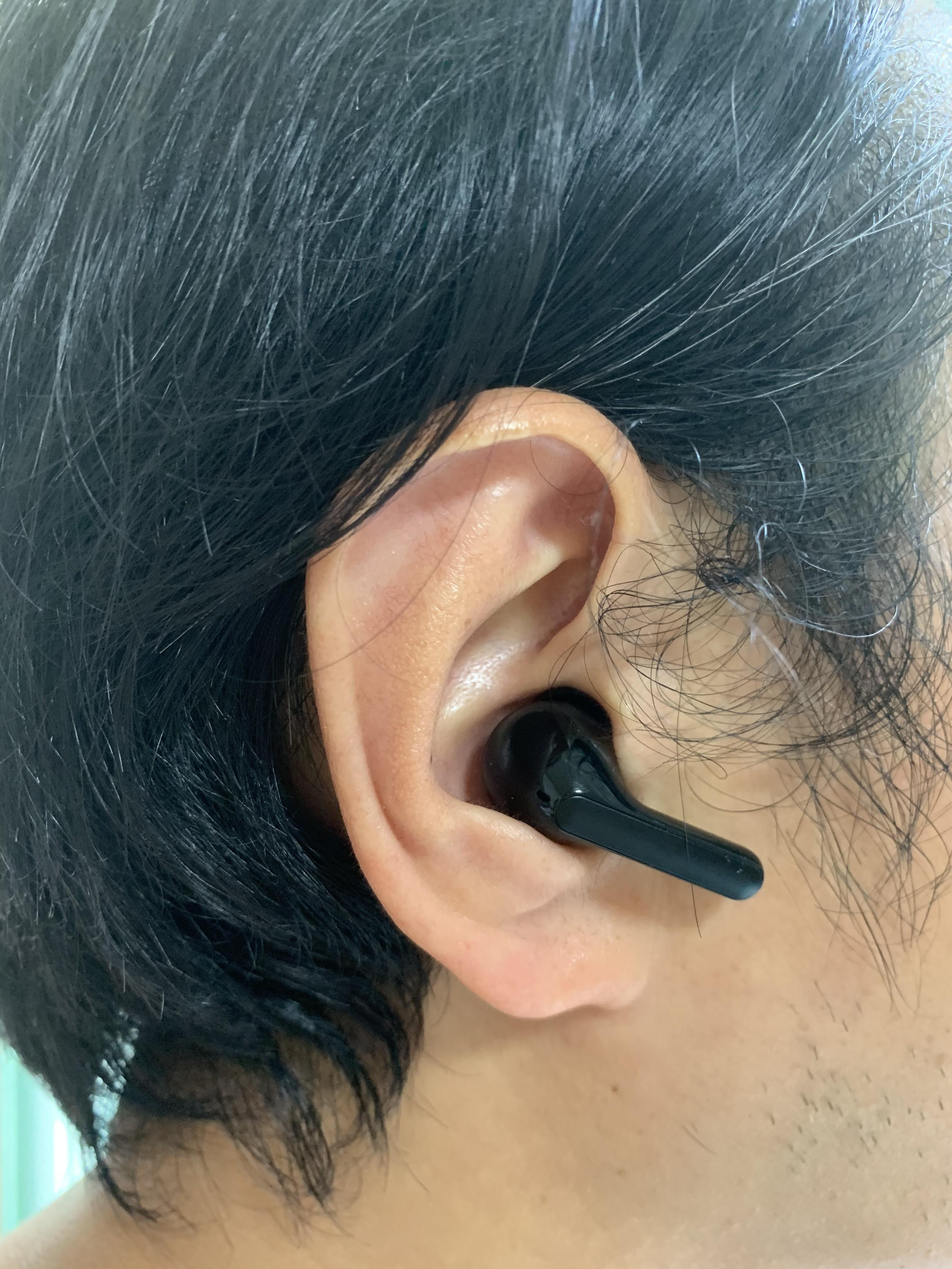earphone: (447, 674, 766, 923)
